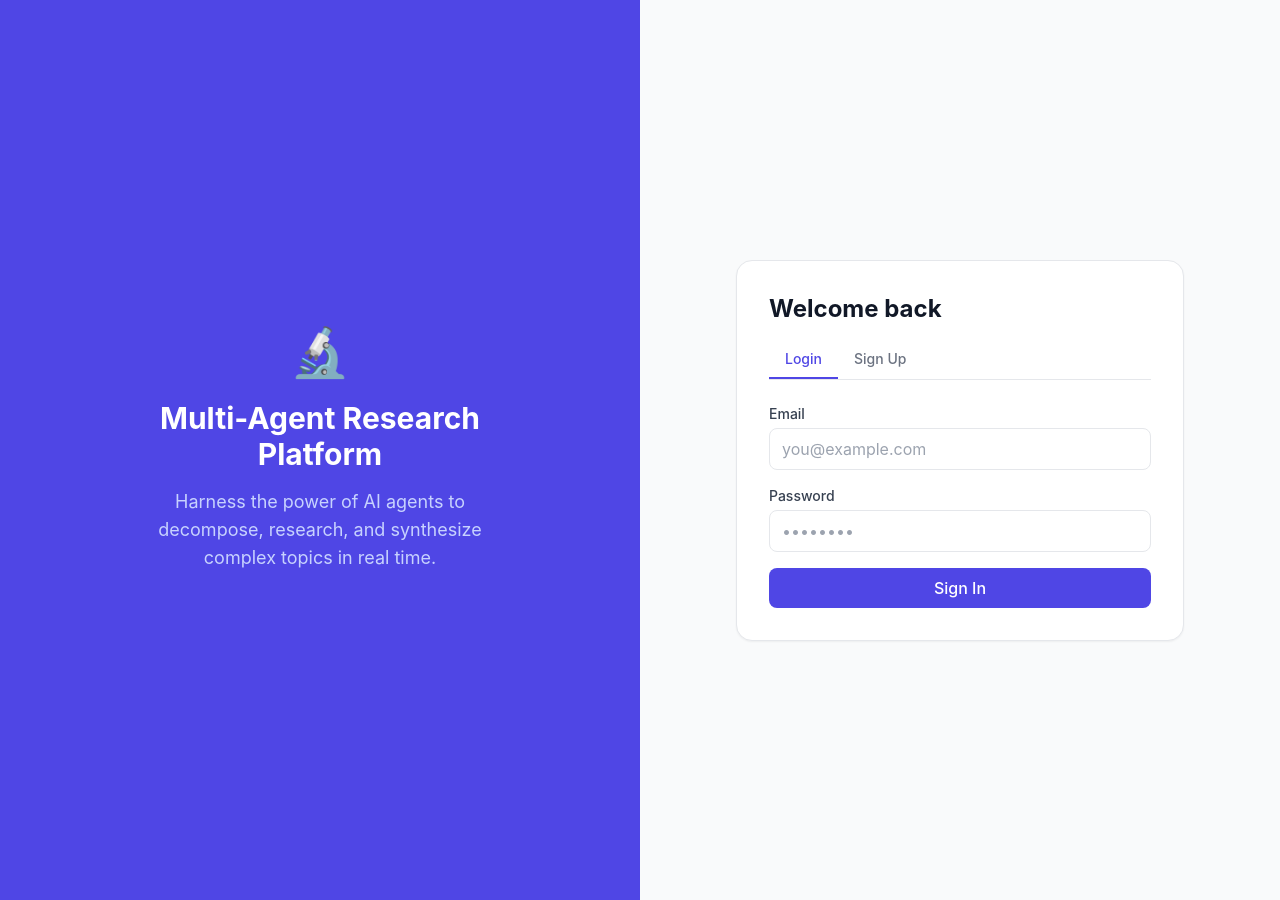
Scenario: AuthPage › shows email validation error when Login submitted with empty email
This screenshot has width=1280, height=900.
Click the button "Sign In" at (960, 588), box [769,568,1151,608]
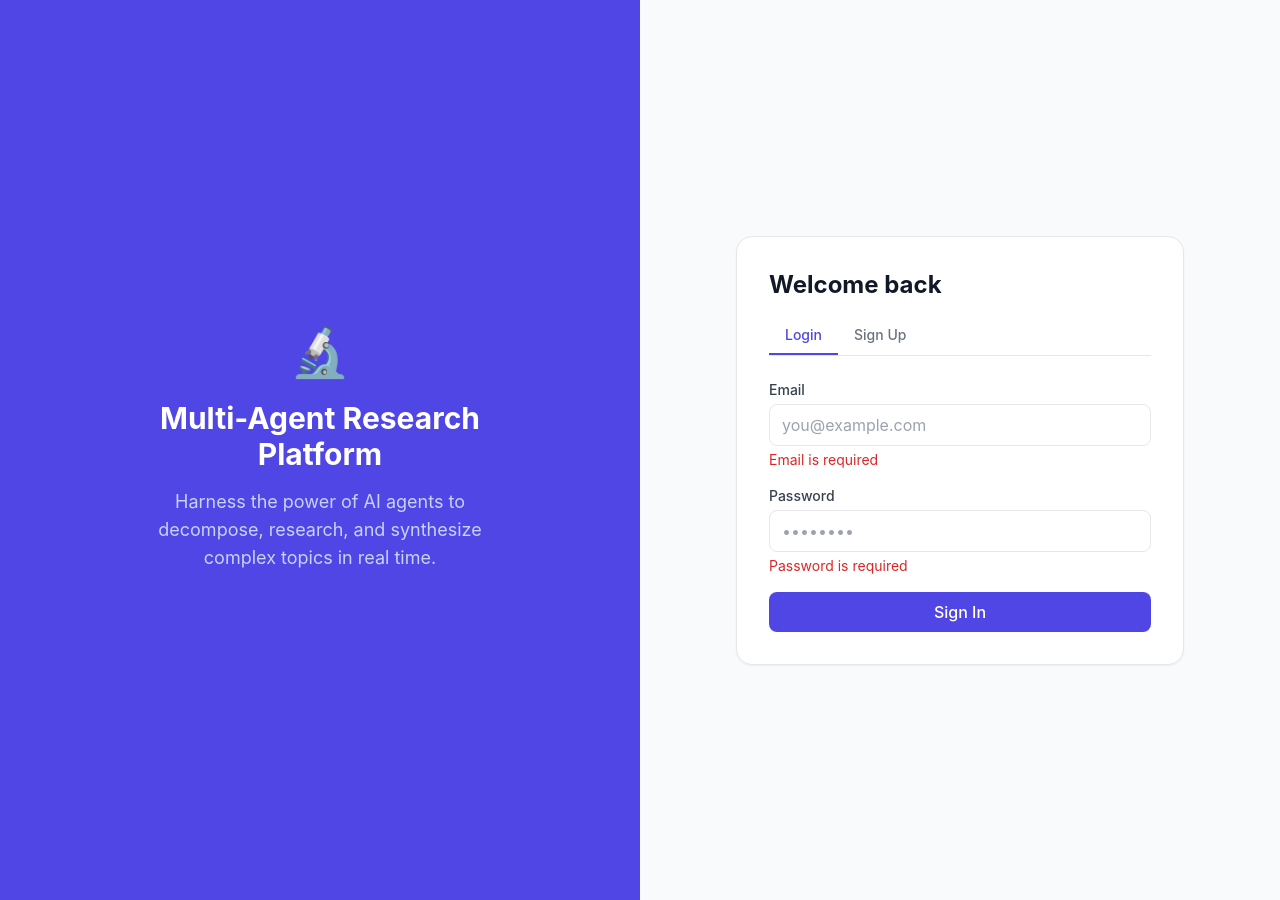
Expected: the text "Email is required" is shown, [769,450,878,468]
